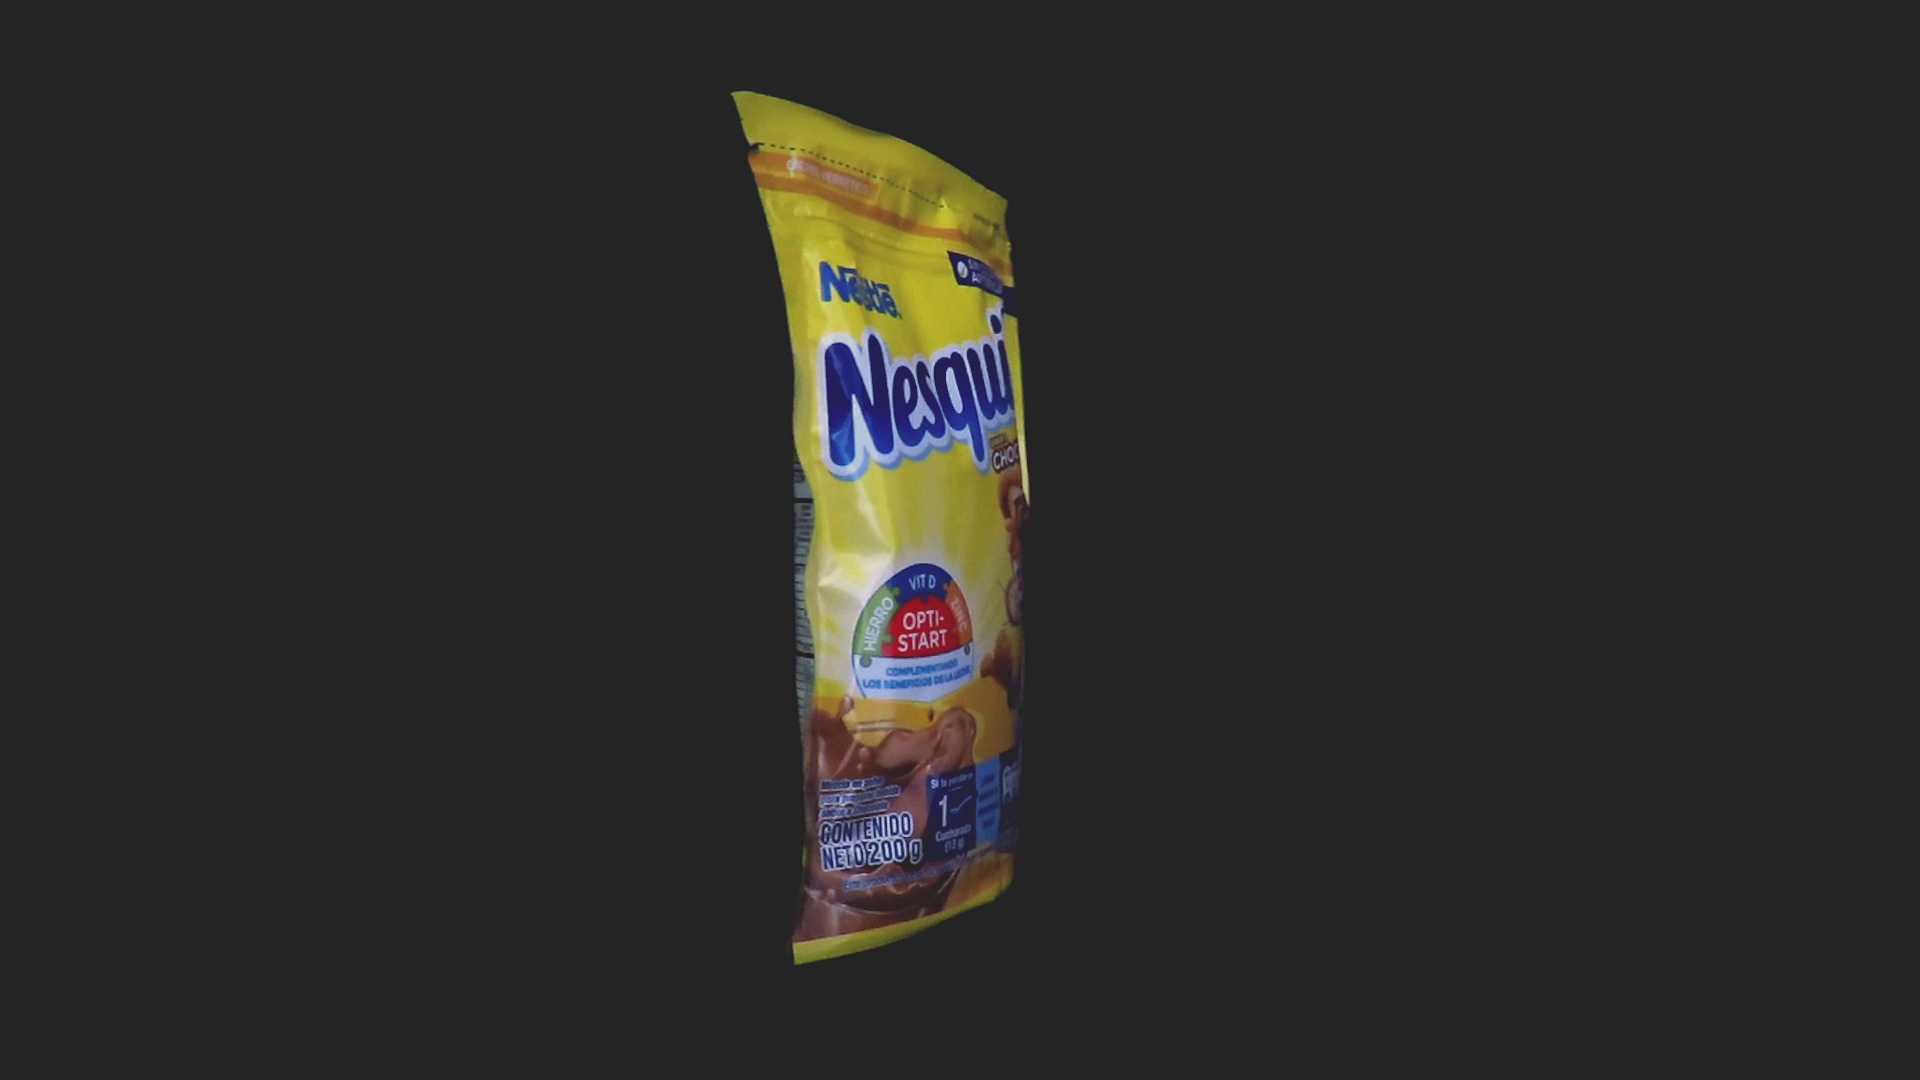COL0170303DYP20000: (727, 86, 1036, 971)
